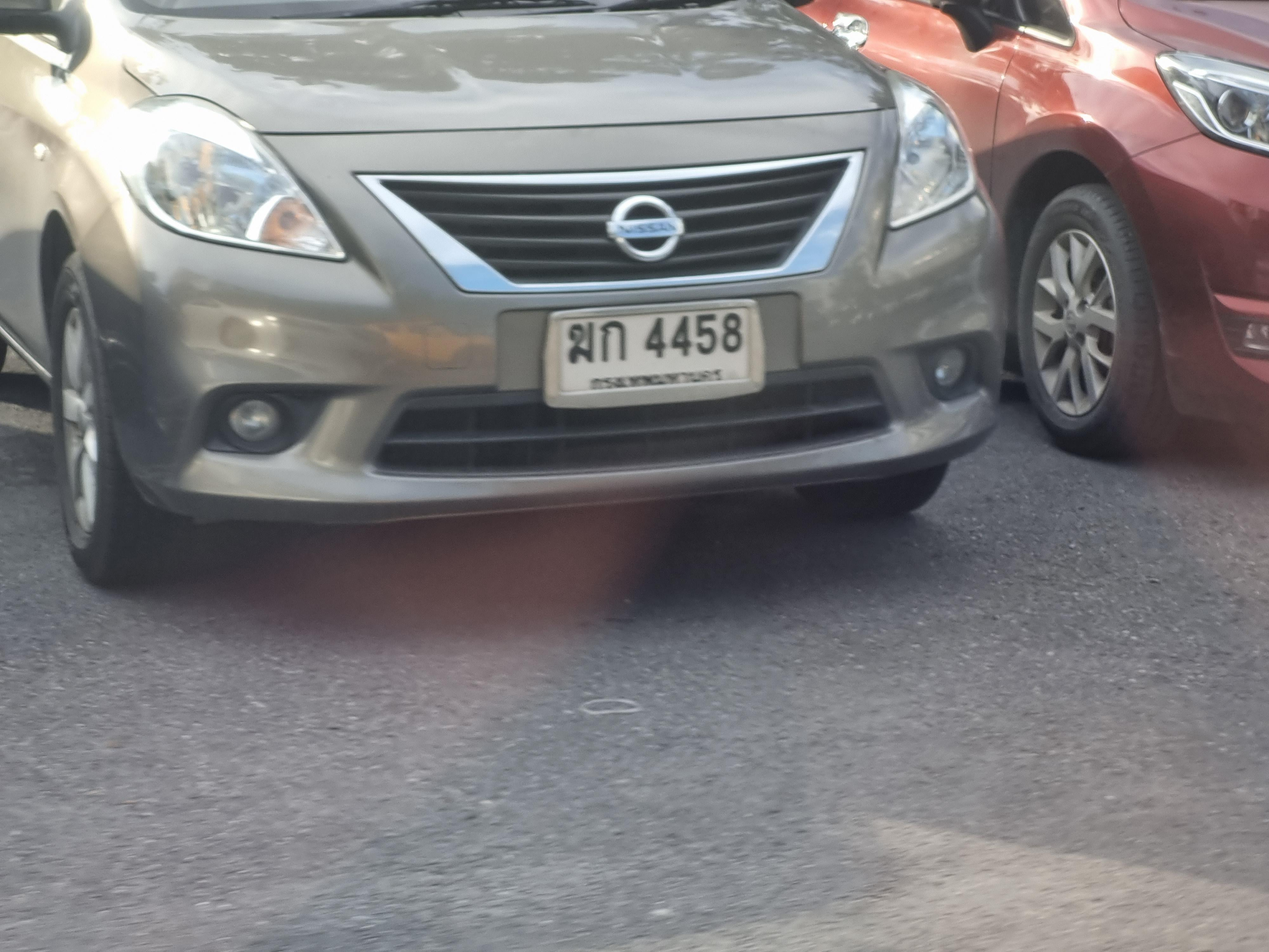license-plate: (540, 297, 765, 414)
